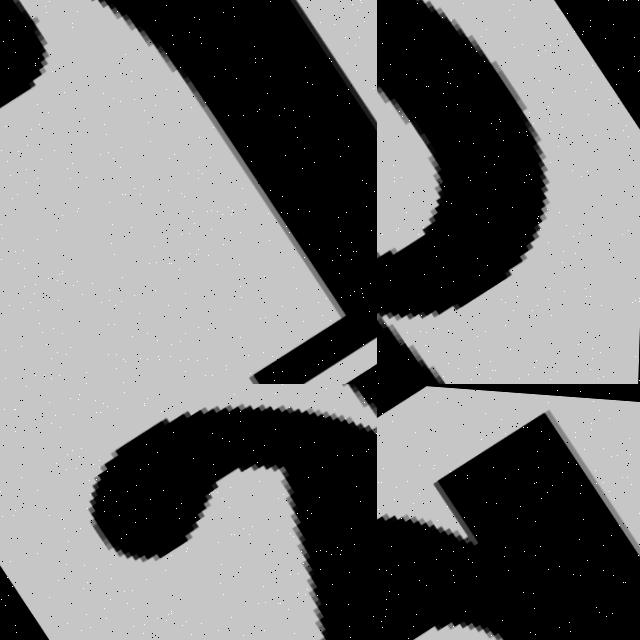K: (0, 384, 377, 640)
Q: (377, 0, 640, 384)
R: (0, 0, 377, 384), (377, 384, 640, 640)
